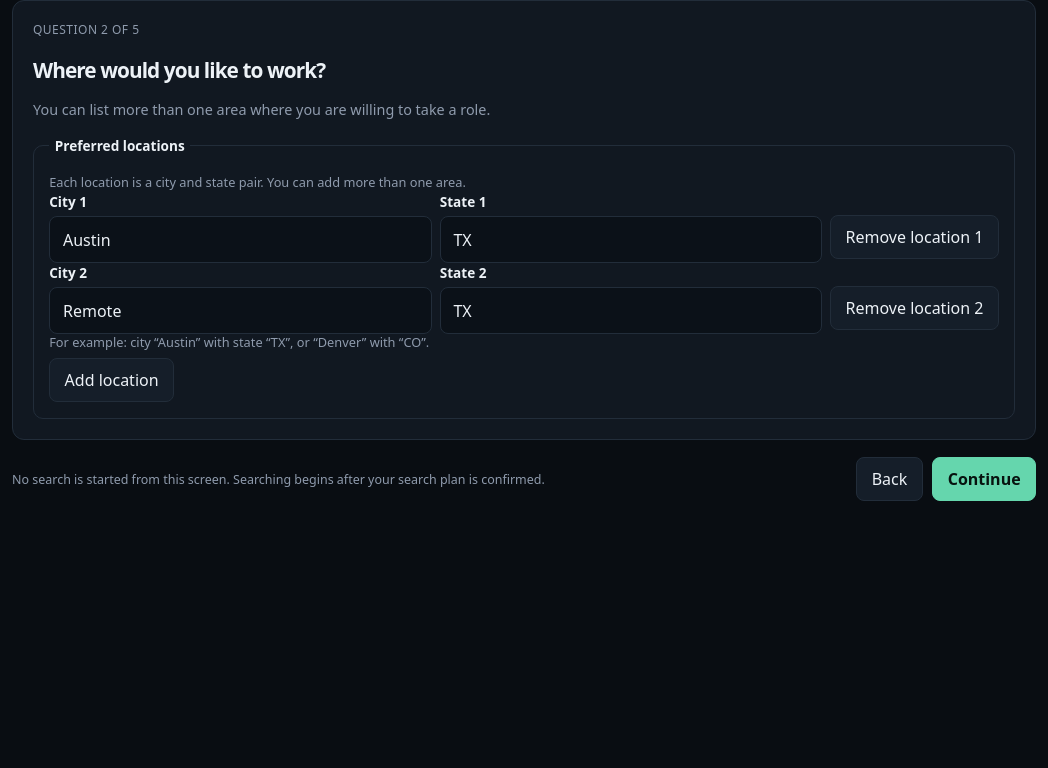
Scenario: PreferencesStep guided onboarding › adds and removes preferred locations without leaving the question
Click the button "Add location": {"x": 112, "y": 380} [49,358,174,402]
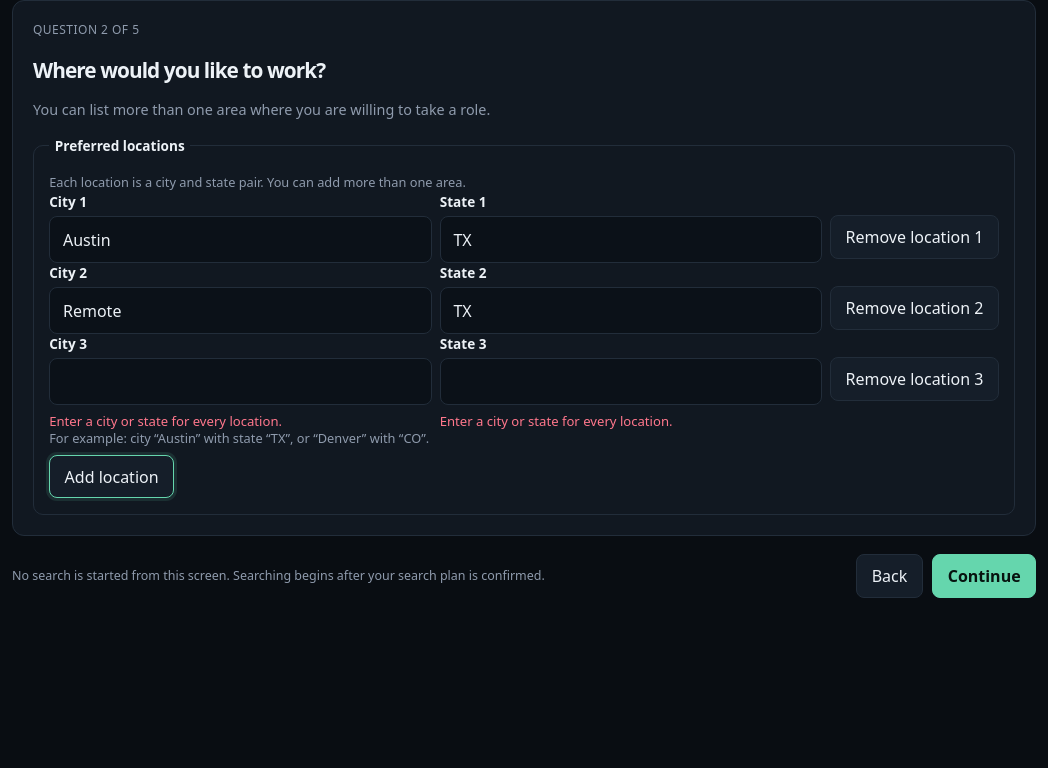
Check: the field labelled "City 3 Enter a city or state for every location." is shown
In the field labelled "City 3 Enter a city or state for every location.": {"x": 240, "y": 382} [49,358,432,405], type "Dallas"
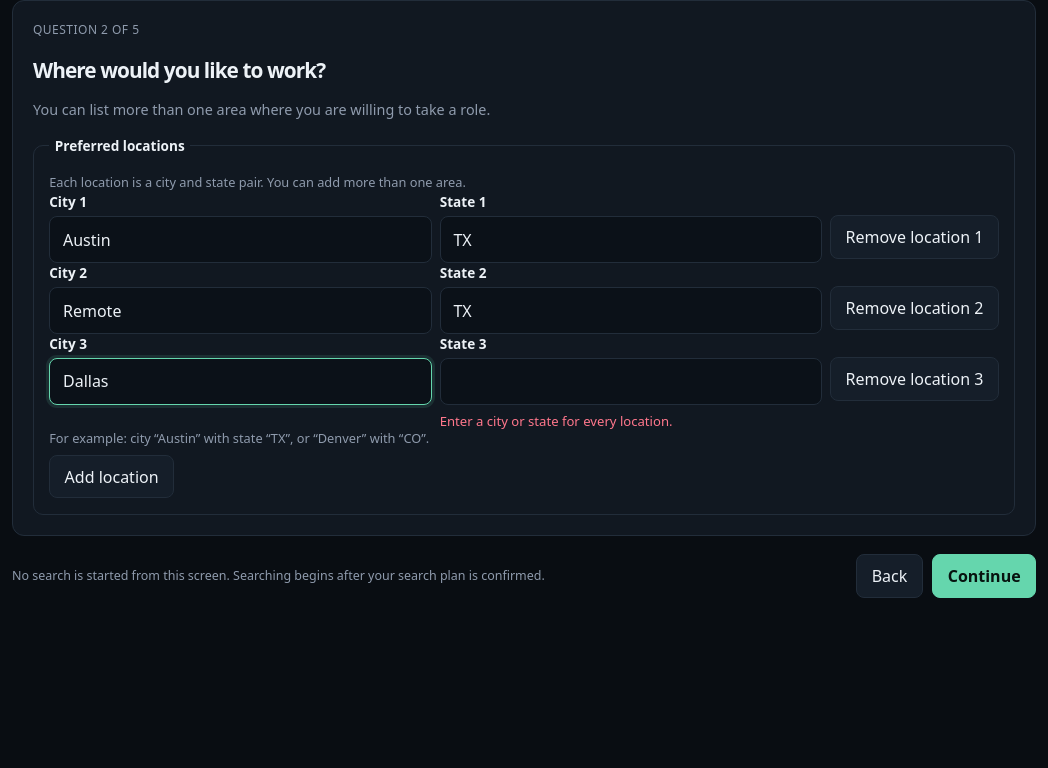
In the field labelled "State 3 Enter a city or state for every location.": {"x": 631, "y": 382} [440,358,822,405], type "TX"
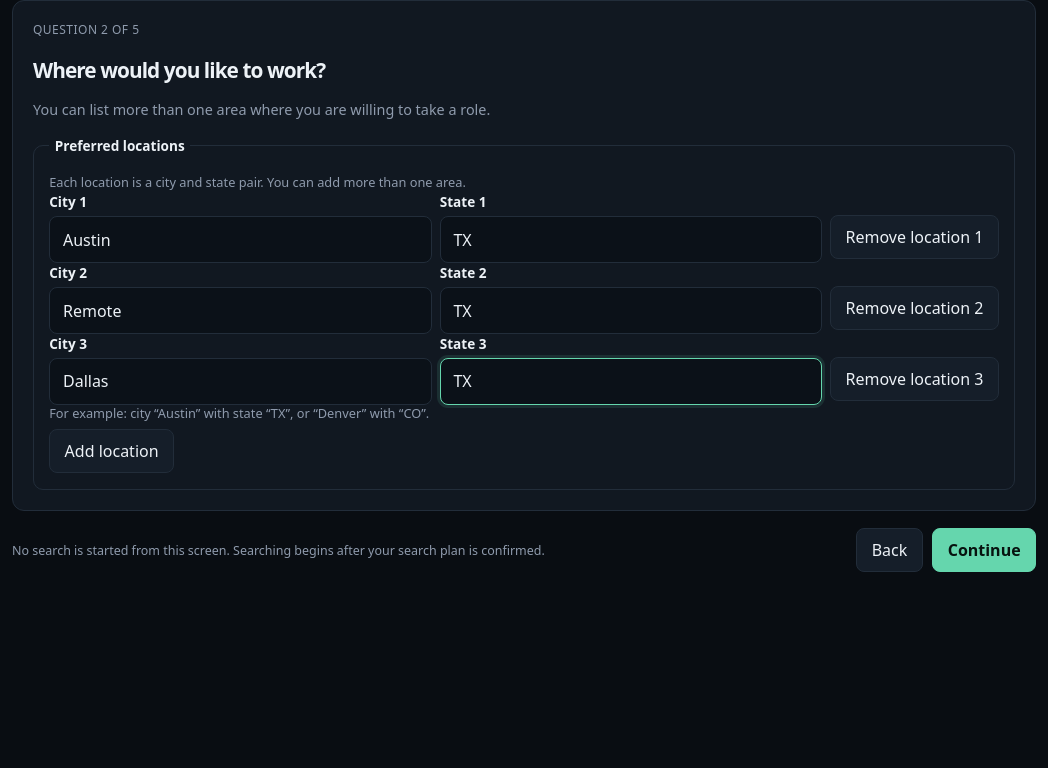
Click the button "Remove location 3": {"x": 915, "y": 379} [830,357,999,401]
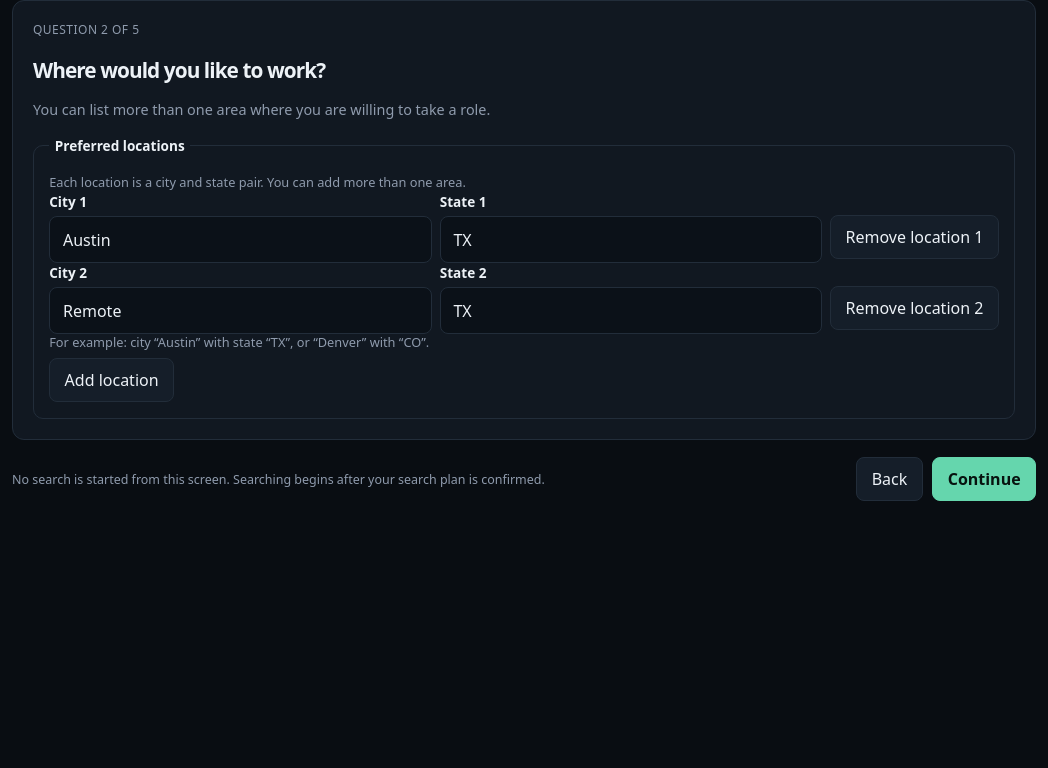
Check: the heading "Where would you like to work?" is shown, box [33,56,325,84]
Check: the text "City 3" is gone
